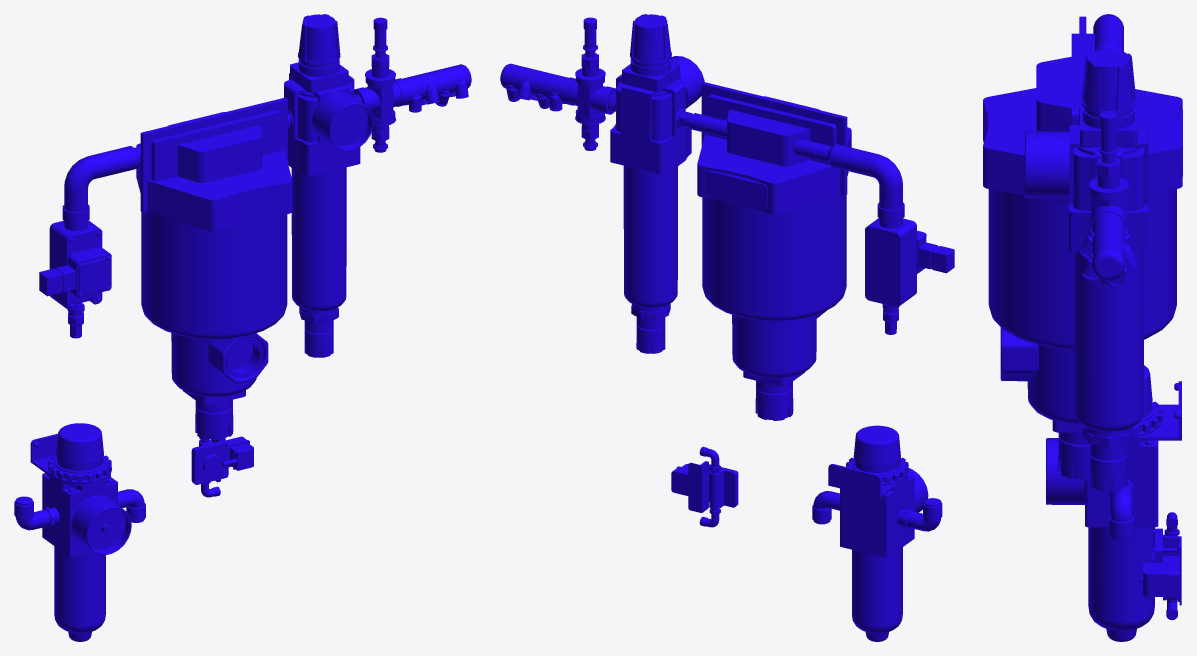
The model's file is ACC2.fbx.
3 renders of one model, left to right at view 1: azimuth 30°, elevation 25°; view 2: azimuth 150°, elevation 25°; view 3: azimuth 270°, elevation 25°, orthographic. The views are drawn at different scales.
Parts seen in each view (by area): view 1: 12, 11, 10; view 2: 12, 11, 10; view 3: 12, 11, 10.
Boxes of the visible parts, bbox=[...] form: 12: bbox=[39, 14, 471, 440]; 11: bbox=[14, 423, 145, 641]; 10: bbox=[191, 436, 253, 497]; 12: bbox=[500, 14, 954, 420]; 11: bbox=[812, 425, 942, 641]; 10: bbox=[671, 447, 738, 527]; 12: bbox=[983, 14, 1182, 491]; 11: bbox=[1046, 365, 1181, 641]; 10: bbox=[1140, 512, 1181, 620].
Bounding box in the file's own units: 508 × 153 × 613.
